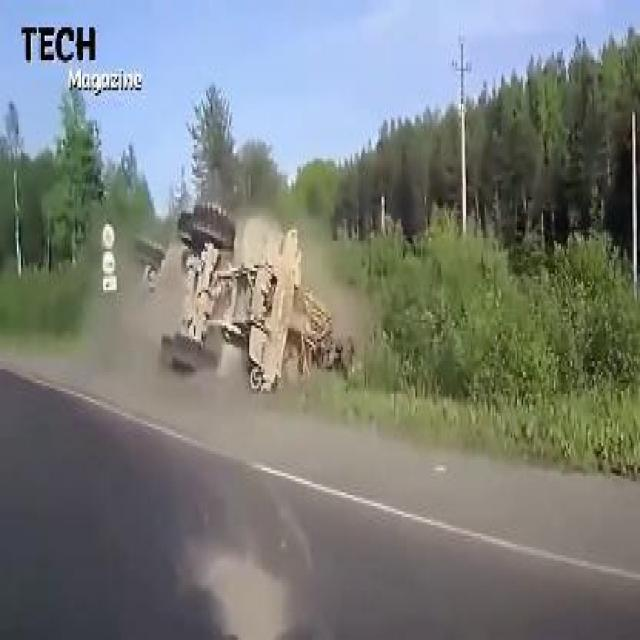accident: (136, 205, 347, 394)
